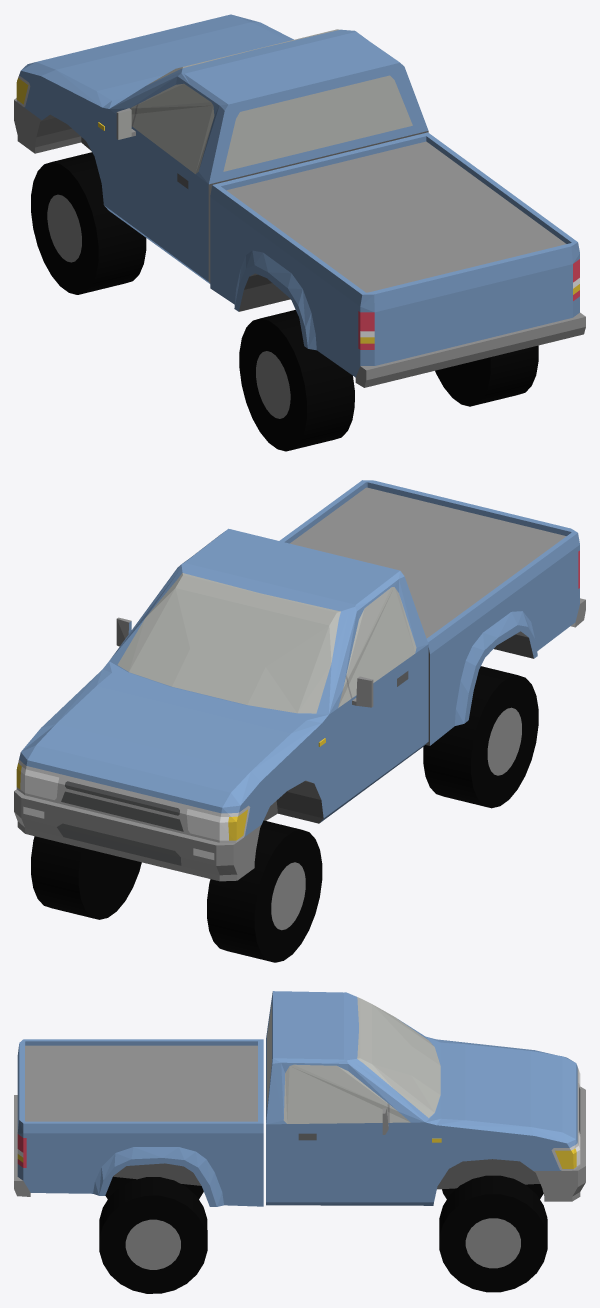
3 views of the same model, one above another, from view 1: azimuth 30°, elevation 25°; view 2: azimuth 150°, elevation 25°; view 3: azimuth 270°, elevation 25° (orthographic). The views are drawn at different scales.
Parts seen in each view (by area): view 1: Mesh1 Model, Mesh5 Model, Mesh4 Model, Mesh2 Model; view 2: Mesh1 Model, Mesh4 Model, Mesh5 Model, Mesh3 Model; view 3: Mesh1 Model, Mesh3 Model, Mesh2 Model, Mesh5 Model.
Boxes of the visible parts, <box> form: Mesh1 Model: <box>14,14,585,387</box>; Mesh5 Model: <box>239,310,354,451</box>; Mesh4 Model: <box>31,152,146,294</box>; Mesh2 Model: <box>435,345,538,406</box>; Mesh1 Model: <box>14,480,585,881</box>; Mesh4 Model: <box>207,820,322,962</box>; Mesh5 Model: <box>423,666,538,808</box>; Mesh3 Model: <box>31,836,141,919</box>; Mesh1 Model: <box>14,991,585,1206</box>; Mesh3 Model: <box>439,1175,547,1292</box>; Mesh2 Model: <box>99,1177,207,1293</box>; Mesh5 Model: <box>105,1176,203,1199</box>.
Size of the model in its own units: 134 by 141 by 326.
